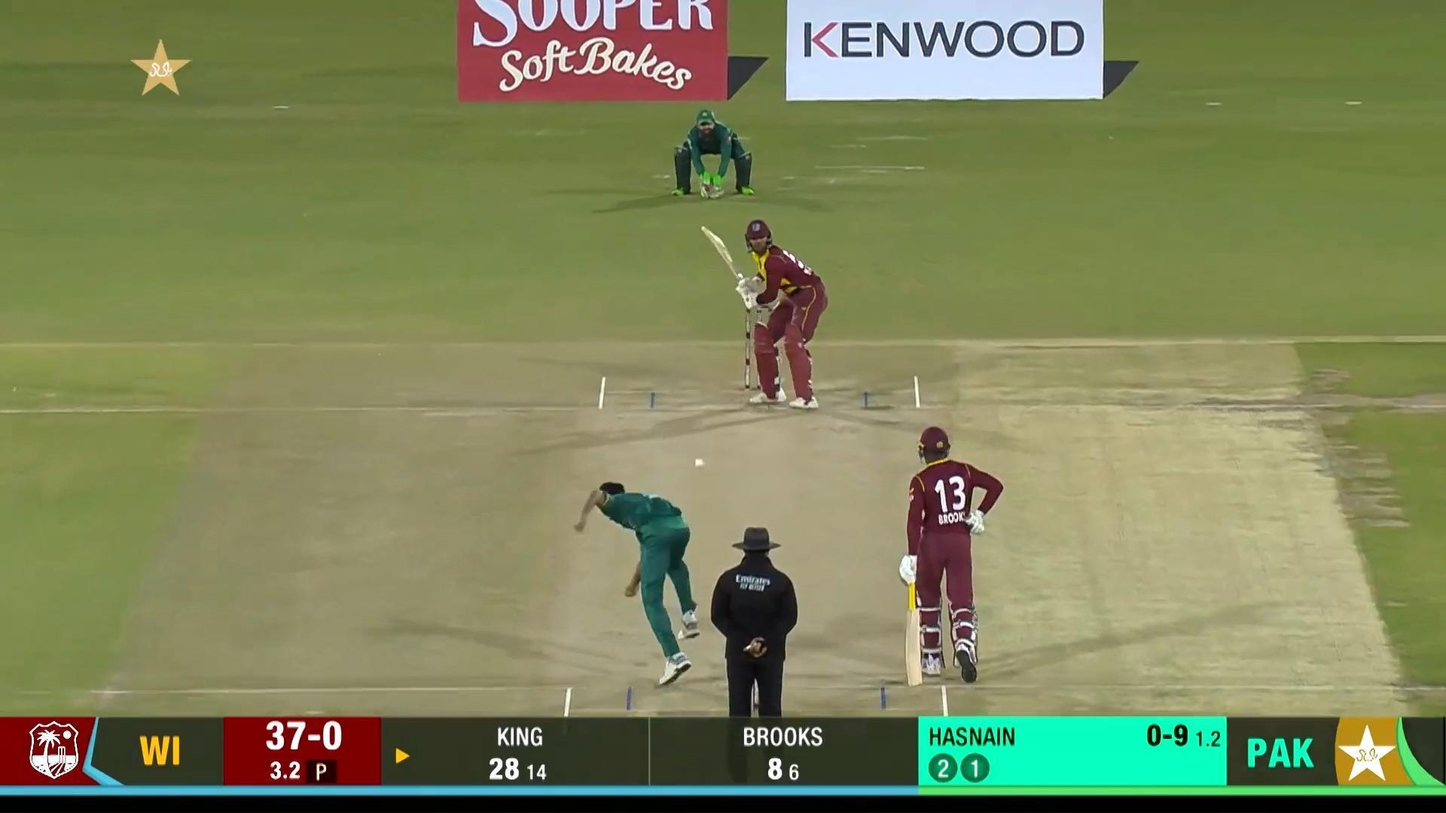BM 1: (700, 220, 829, 410)
BO: (575, 481, 702, 686)
